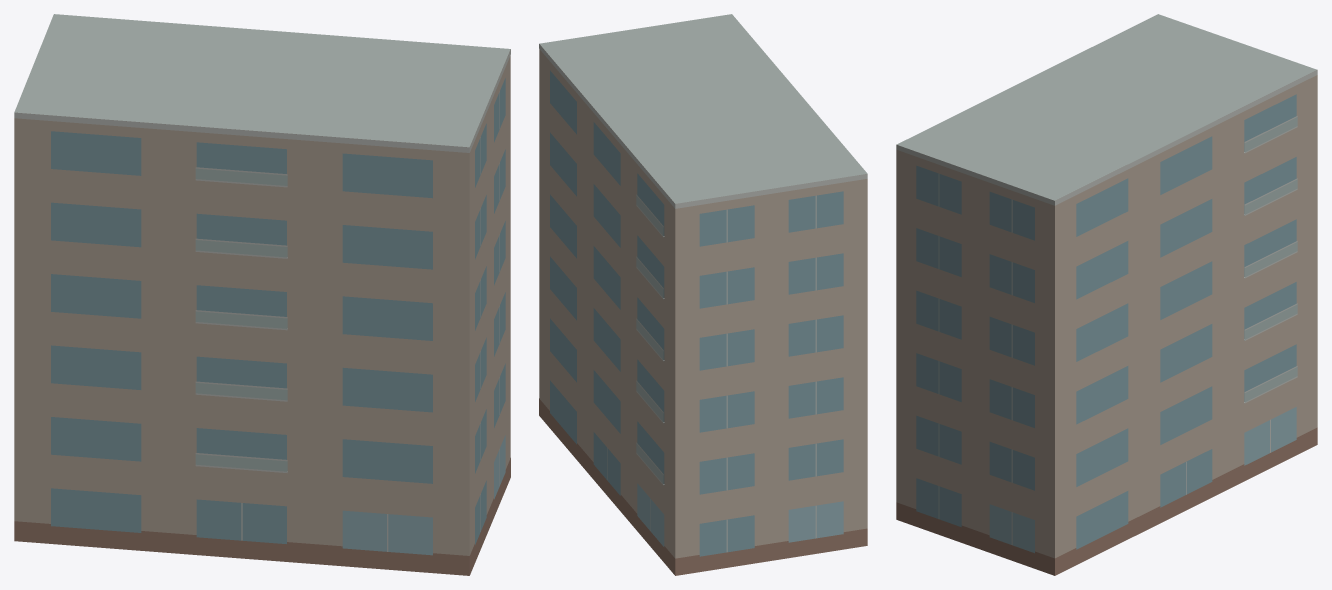
Rendered from survey-upis-32649405.glb.
The picture shows the model from 3 angles, left to right: view 1: azimuth 30°, elevation 25°; view 2: azimuth 150°, elevation 25°; view 3: azimuth 270°, elevation 25°; orthographic projection. The views are drawn at different scales.
Parts seen in each view (by area): view 1: survey-upis-32649405.tmp; view 2: survey-upis-32649405.tmp; view 3: survey-upis-32649405.tmp.
Part boxes in pixels (x1,y1,x2,y2): survey-upis-32649405.tmp: (14, 14, 510, 575); survey-upis-32649405.tmp: (539, 14, 867, 575); survey-upis-32649405.tmp: (896, 14, 1317, 575).
Size of the model in its own units: 19.56 by 18.3 by 18.63.
